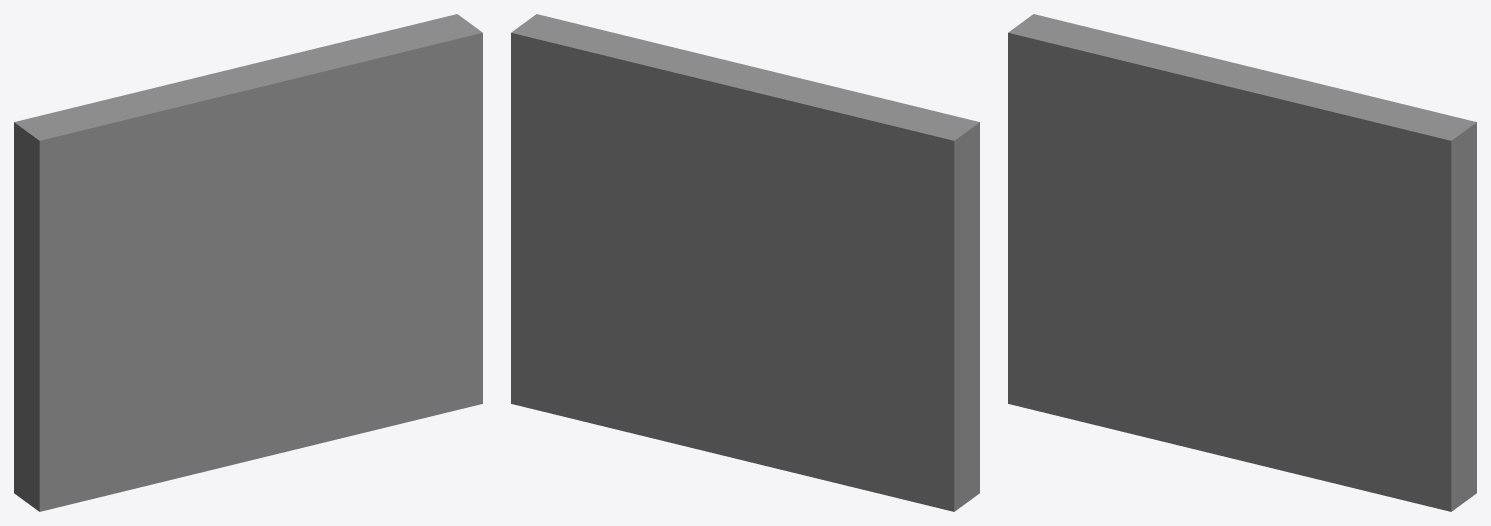
File: Wall_20x2x16.fbx
3 views of the same model, side by side, from view 1: azimuth 30°, elevation 25°; view 2: azimuth 150°, elevation 25°; view 3: azimuth 330°, elevation 25° (orthographic).
Visible parts, largest first — view 1: Wall_20x2x16; view 2: Wall_20x2x16; view 3: Wall_20x2x16.
Part boxes in pixels (left/top/right/bottom): Wall_20x2x16: left=14, top=14, right=482, bottom=511; Wall_20x2x16: left=511, top=14, right=979, bottom=511; Wall_20x2x16: left=1008, top=14, right=1476, bottom=511.
Size of the model in its own units: 20 by 16 by 2.
